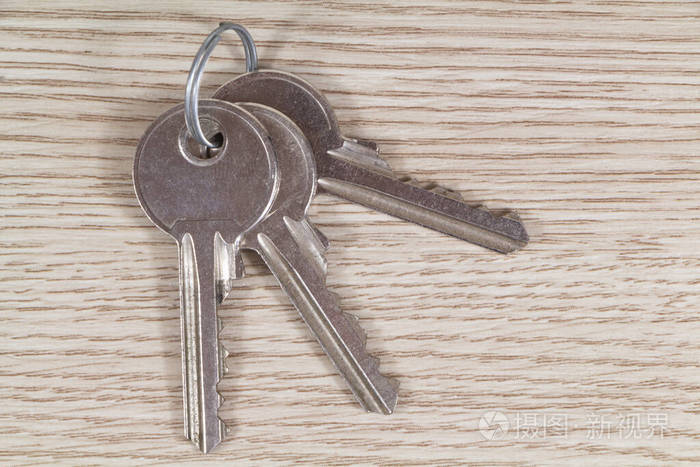key: (115, 95, 285, 453)
